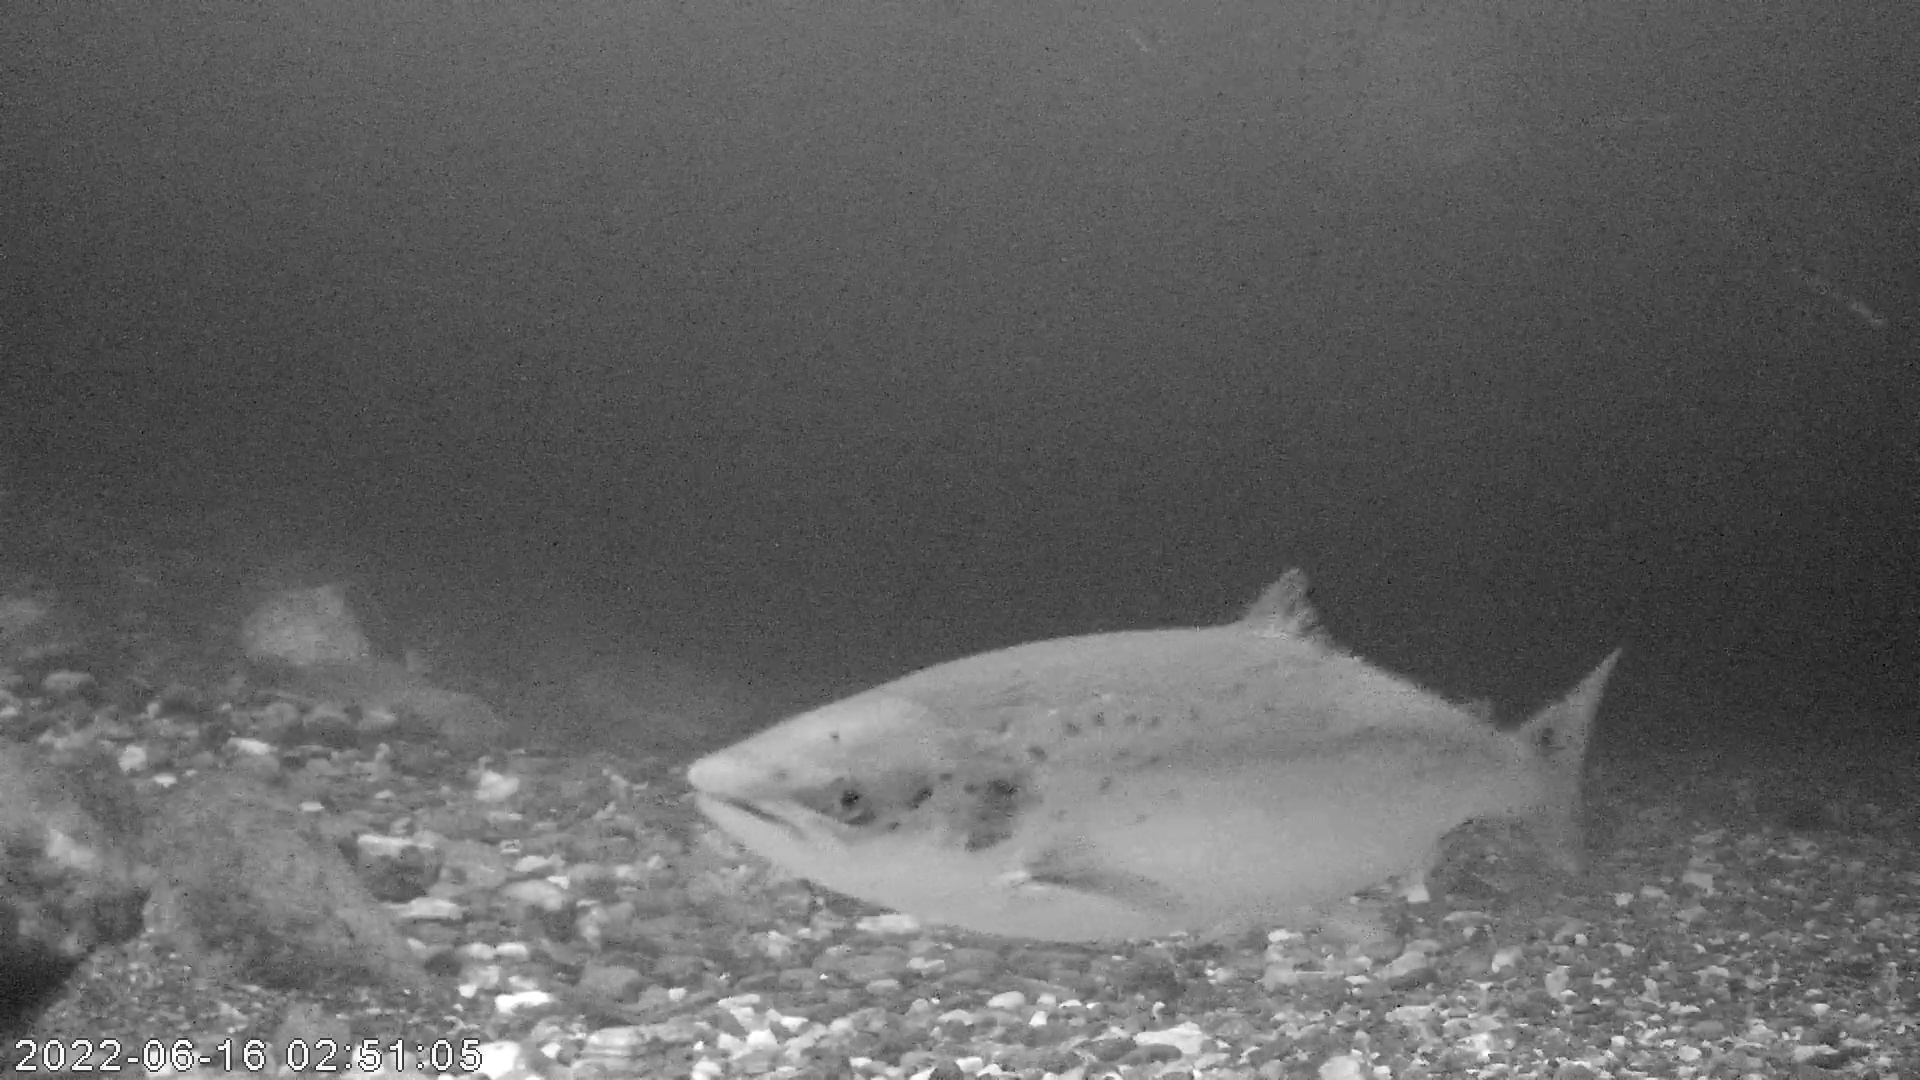salmon: (683, 563, 1625, 945)
